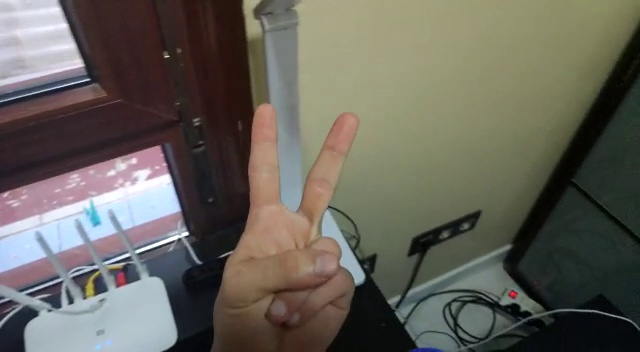Peace: (212, 98, 374, 352)
